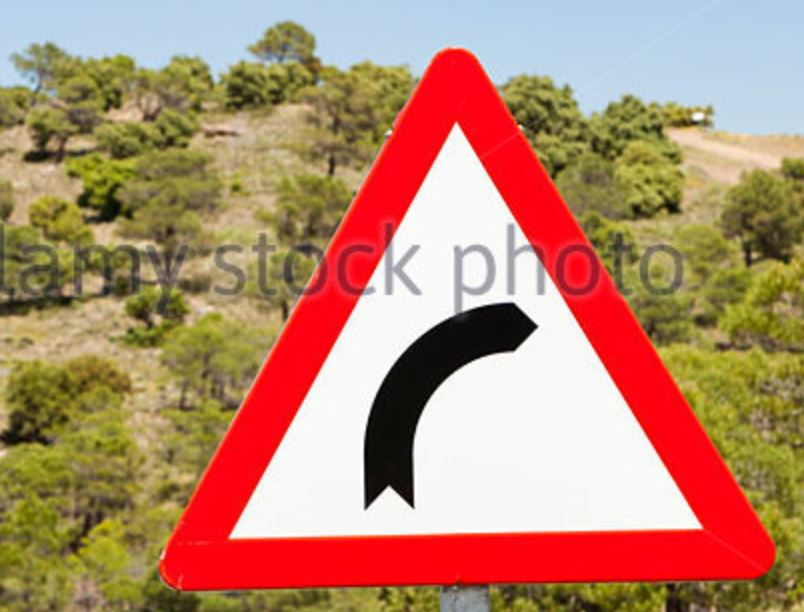Bend_to_right: (148, 44, 785, 595)
